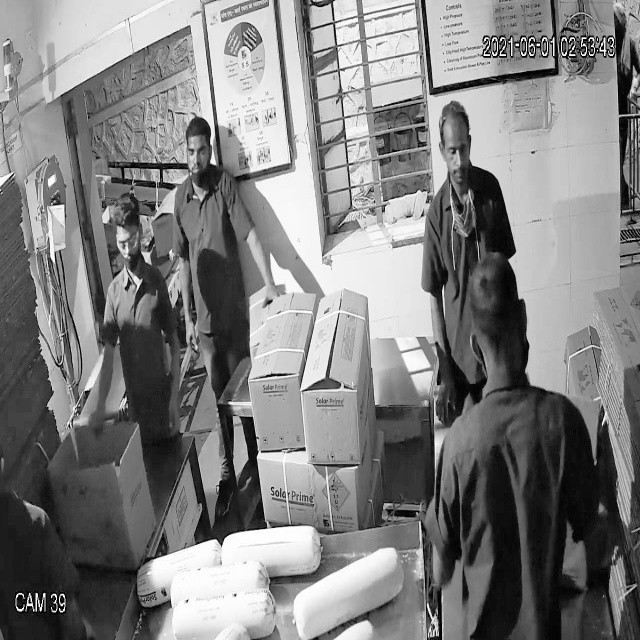Gafas: (111, 216, 144, 260)
Sin_gafas: (436, 132, 476, 166), (180, 132, 218, 165)
